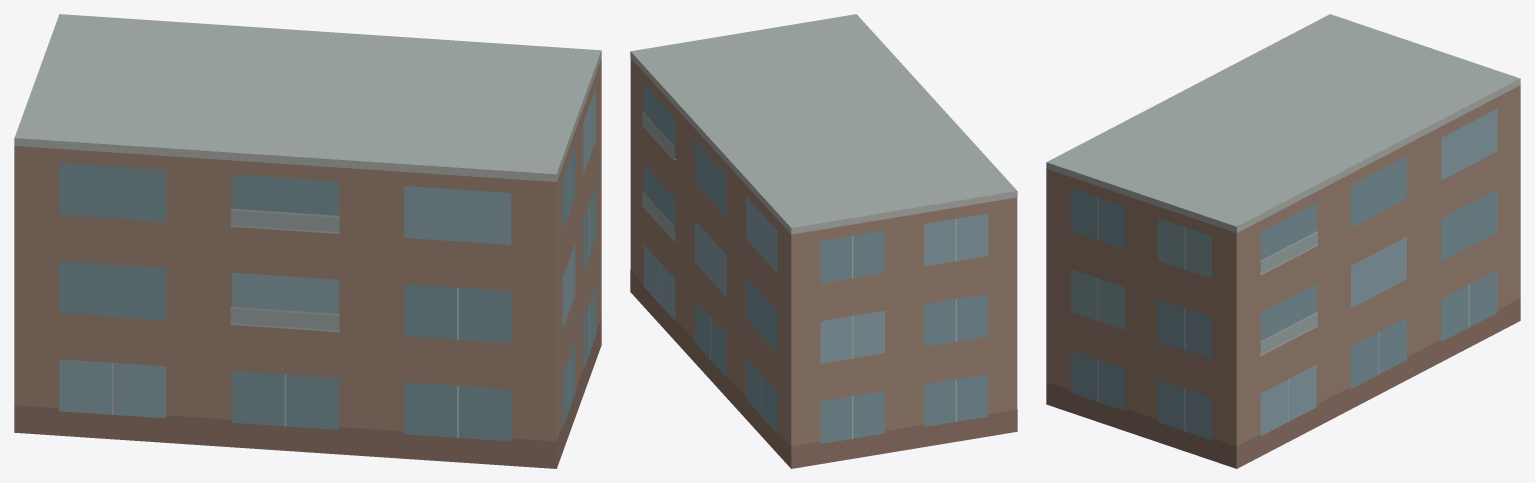
File: survey-upis-32818193.glb
3 renders of one model, left to right at view 1: azimuth 30°, elevation 25°; view 2: azimuth 150°, elevation 25°; view 3: azimuth 270°, elevation 25°, orthographic. The views are drawn at different scales.
Visible parts, largest first — view 1: survey-upis-32818193.tmp; view 2: survey-upis-32818193.tmp; view 3: survey-upis-32818193.tmp.
Part boxes in pixels (left/top/right/bottom): survey-upis-32818193.tmp: left=14, top=14, right=601, bottom=468; survey-upis-32818193.tmp: left=630, top=14, right=1017, bottom=468; survey-upis-32818193.tmp: left=1046, top=14, right=1520, bottom=468.
Bounding box in the file's own units: 17.25 × 9.15 × 16.25.
